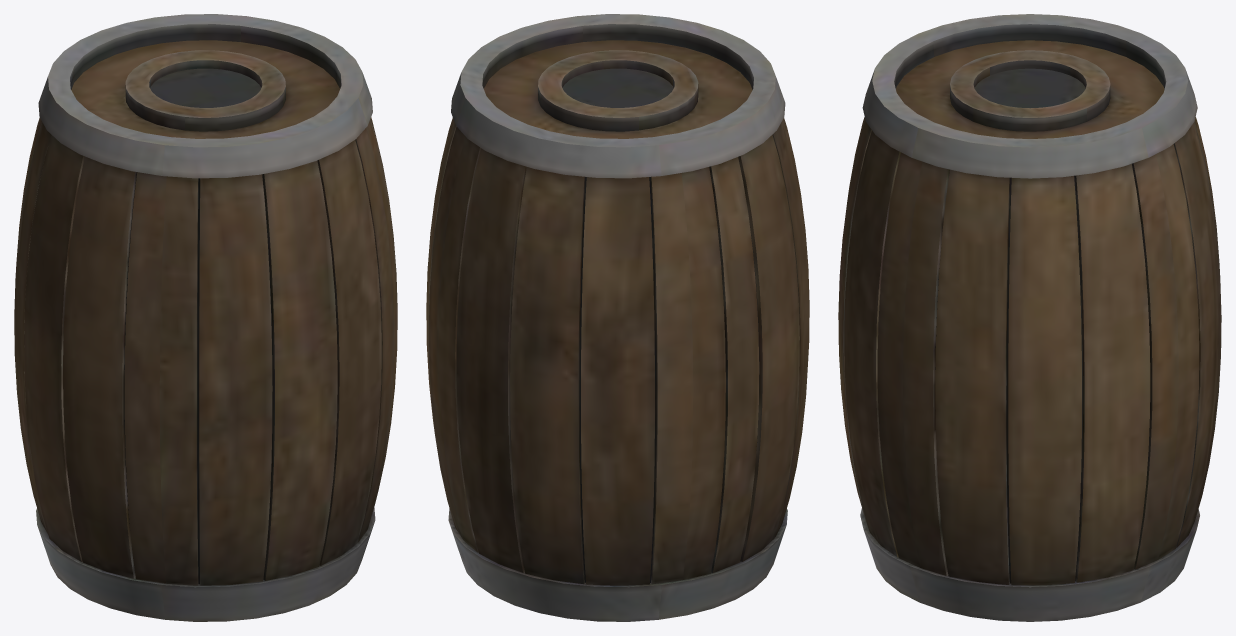
The model's file is SM_barrel_02.glb.
The picture shows the model from 3 angles, left to right: view 1: azimuth 30°, elevation 25°; view 2: azimuth 150°, elevation 25°; view 3: azimuth 270°, elevation 25°; orthographic projection.
Visible parts, largest first — view 1: SM_barrel_02; view 2: SM_barrel_02; view 3: SM_barrel_02.
Boxes of the visible parts, <box> form: SM_barrel_02: <box>14,14,397,621</box>; SM_barrel_02: <box>426,14,809,621</box>; SM_barrel_02: <box>838,14,1221,621</box>.
Bounding box in the file's own units: 0.7843 × 1.07 × 0.7841.
1 material, 1 textured.
